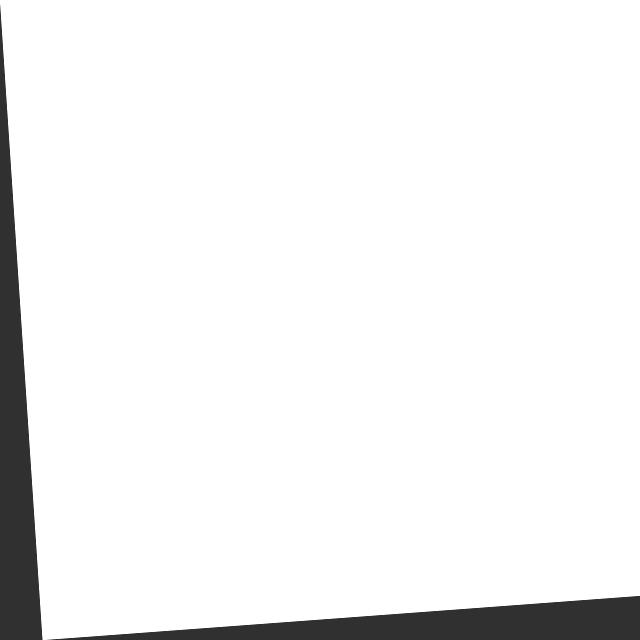qr_code: (32, 0, 640, 606)
